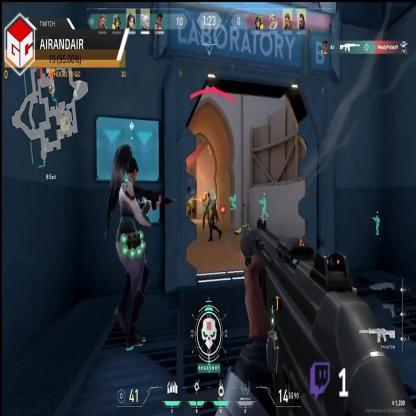enemy: (208, 191, 222, 243), (202, 192, 210, 230), (185, 188, 192, 224)
enemy_head: (210, 190, 215, 200), (187, 188, 191, 198), (204, 192, 207, 201)
